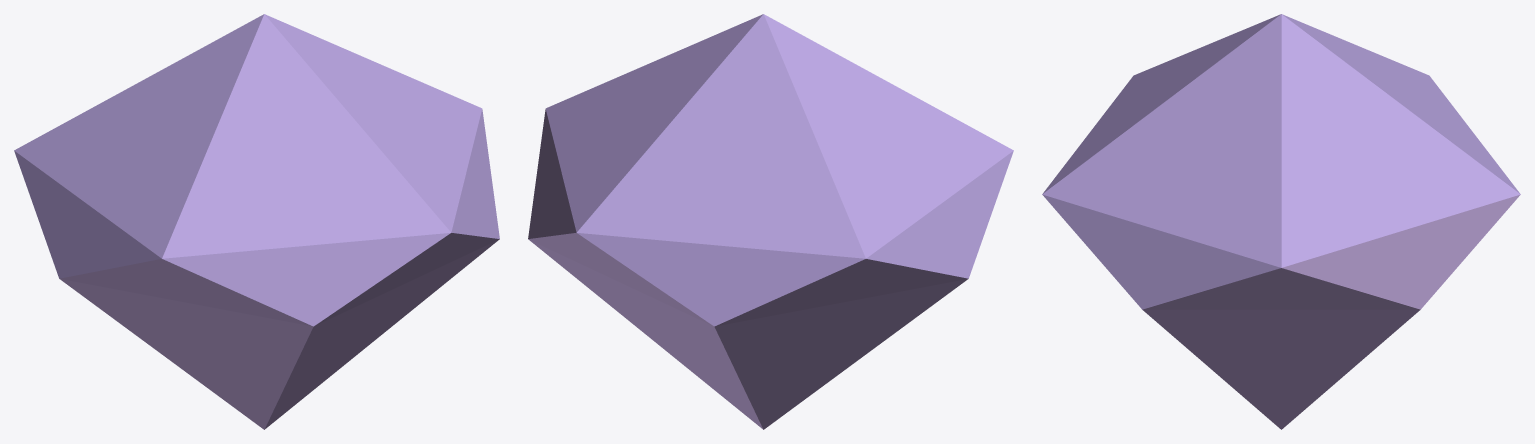
Rendered from crystal_3.glb.
The picture shows the model from 3 angles, left to right: view 1: azimuth 30°, elevation 25°; view 2: azimuth 150°, elevation 25°; view 3: azimuth 270°, elevation 25°; orthographic projection.
Parts seen in each view (by area): view 1: gem; view 2: gem; view 3: gem.
Boxes of the visible parts, box(x1,y1,x2,y2) form: gem: box(14, 14, 499, 429); gem: box(528, 14, 1013, 429); gem: box(1042, 14, 1520, 429).
Bounding box in the file's own units: 0.033 × 0.031 × 0.0323.
